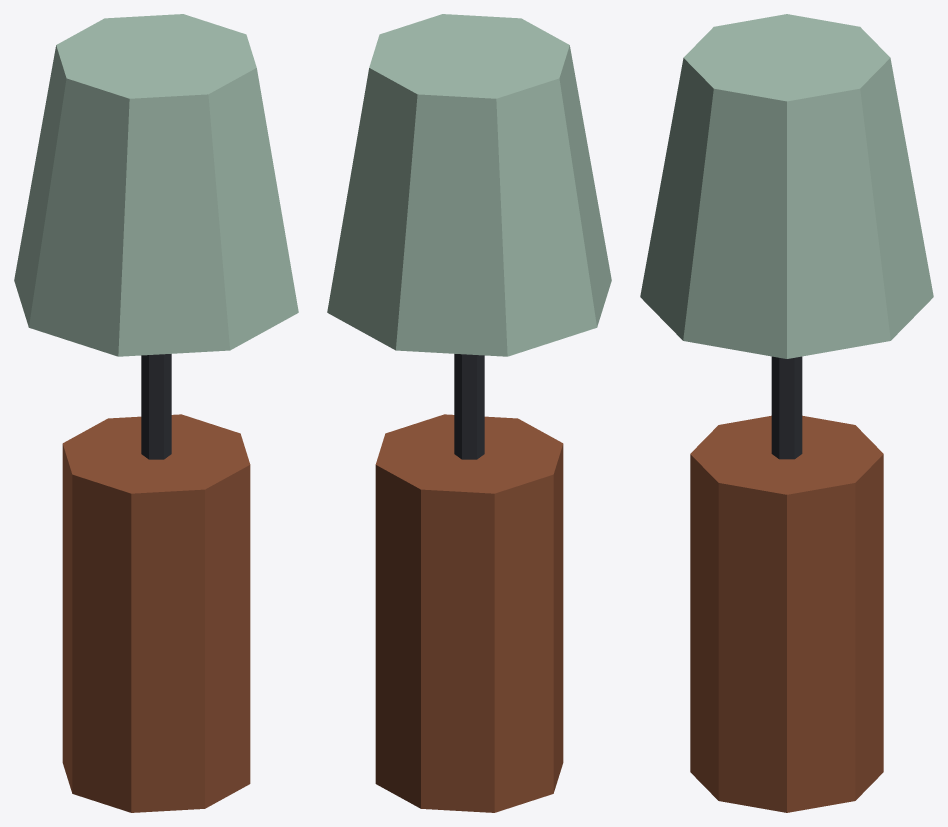
File: table-lamp-26.glb
The picture shows the model from 3 angles, left to right: view 1: azimuth 30°, elevation 25°; view 2: azimuth 150°, elevation 25°; view 3: azimuth 270°, elevation 25°; orthographic projection.
Parts seen in each view (by area): view 1: table_lamp_26; view 2: table_lamp_26; view 3: table_lamp_26.
Boxes of the visible parts, x1,y1,x2,y2 form: table_lamp_26: (14, 14, 298, 812); table_lamp_26: (327, 14, 611, 812); table_lamp_26: (640, 14, 933, 812).
Bounding box in the file's own units: 0.2321 × 0.6229 × 0.2321.
